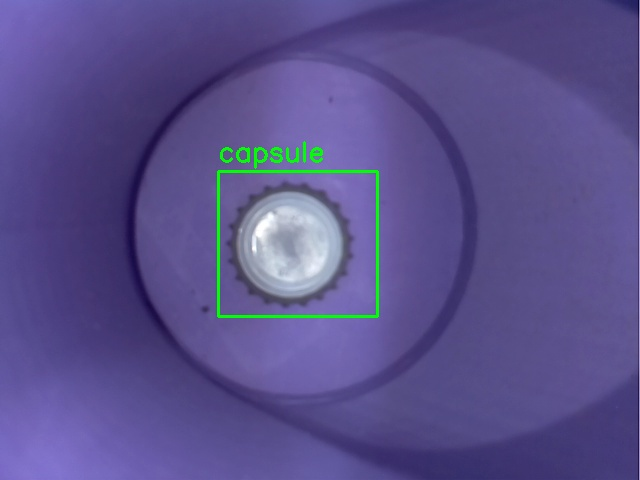capsule: (218, 171, 377, 316)
